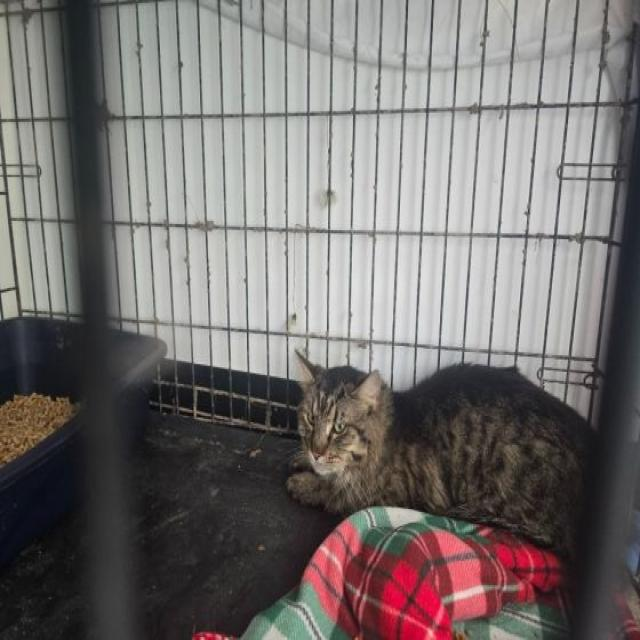maine_coon_cat: (272, 320, 636, 570)
